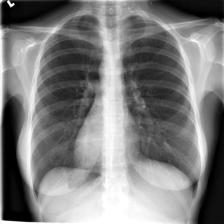normal: (22, 12, 203, 201)
